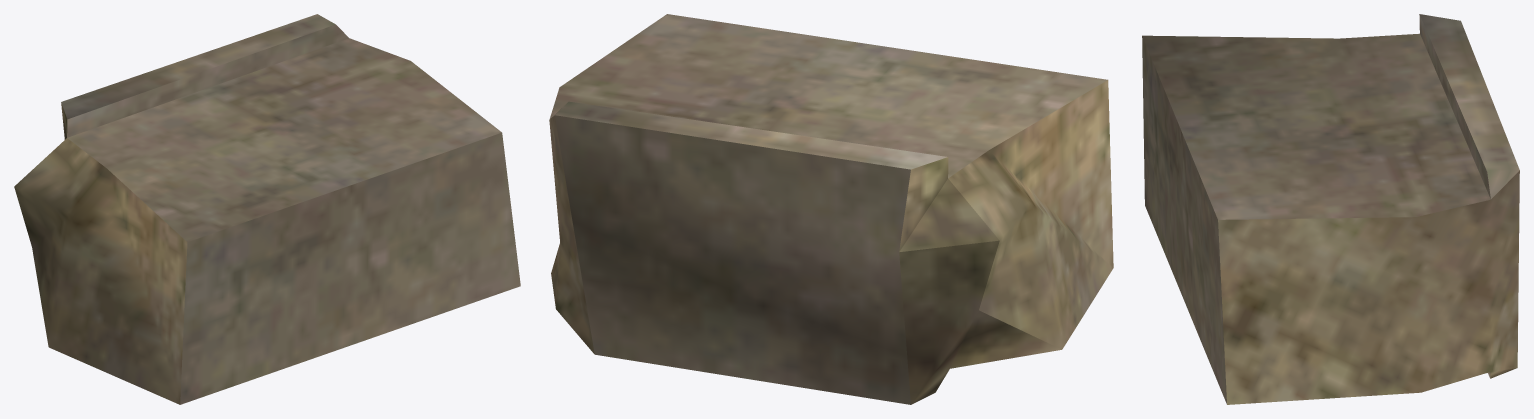
The model's file is environment_common_shamofeixu_001_i.FBX.
3 views of the same model, side by side, from view 1: azimuth 30°, elevation 25°; view 2: azimuth 150°, elevation 25°; view 3: azimuth 270°, elevation 25° (orthographic). The views are drawn at different scales.
Visible parts, largest first — view 1: environment_common_shamofeixu_001_i; view 2: environment_common_shamofeixu_001_i; view 3: environment_common_shamofeixu_001_i.
Boxes of the visible parts, bbox=[...] form: environment_common_shamofeixu_001_i: bbox=[14, 14, 520, 404]; environment_common_shamofeixu_001_i: bbox=[549, 14, 1113, 404]; environment_common_shamofeixu_001_i: bbox=[1142, 14, 1519, 404].
Size of the model in its own units: 162 by 75.41 by 117.
